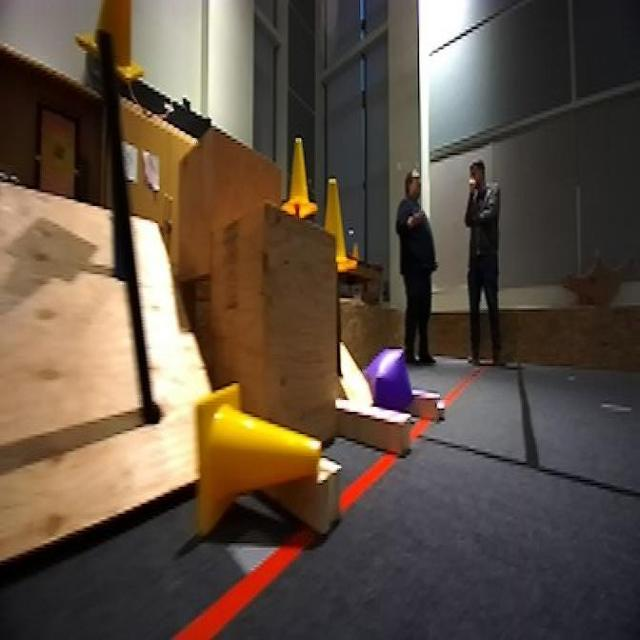frc_cone: (186, 385, 312, 524), (74, 0, 144, 80), (319, 179, 353, 277), (280, 138, 311, 221)
frc_cube: (369, 348, 414, 416)
